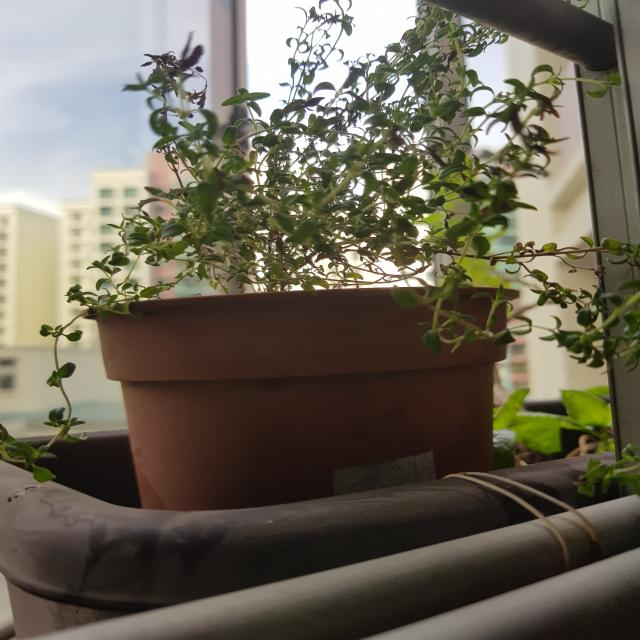Thyme: (47, 0, 640, 355)
